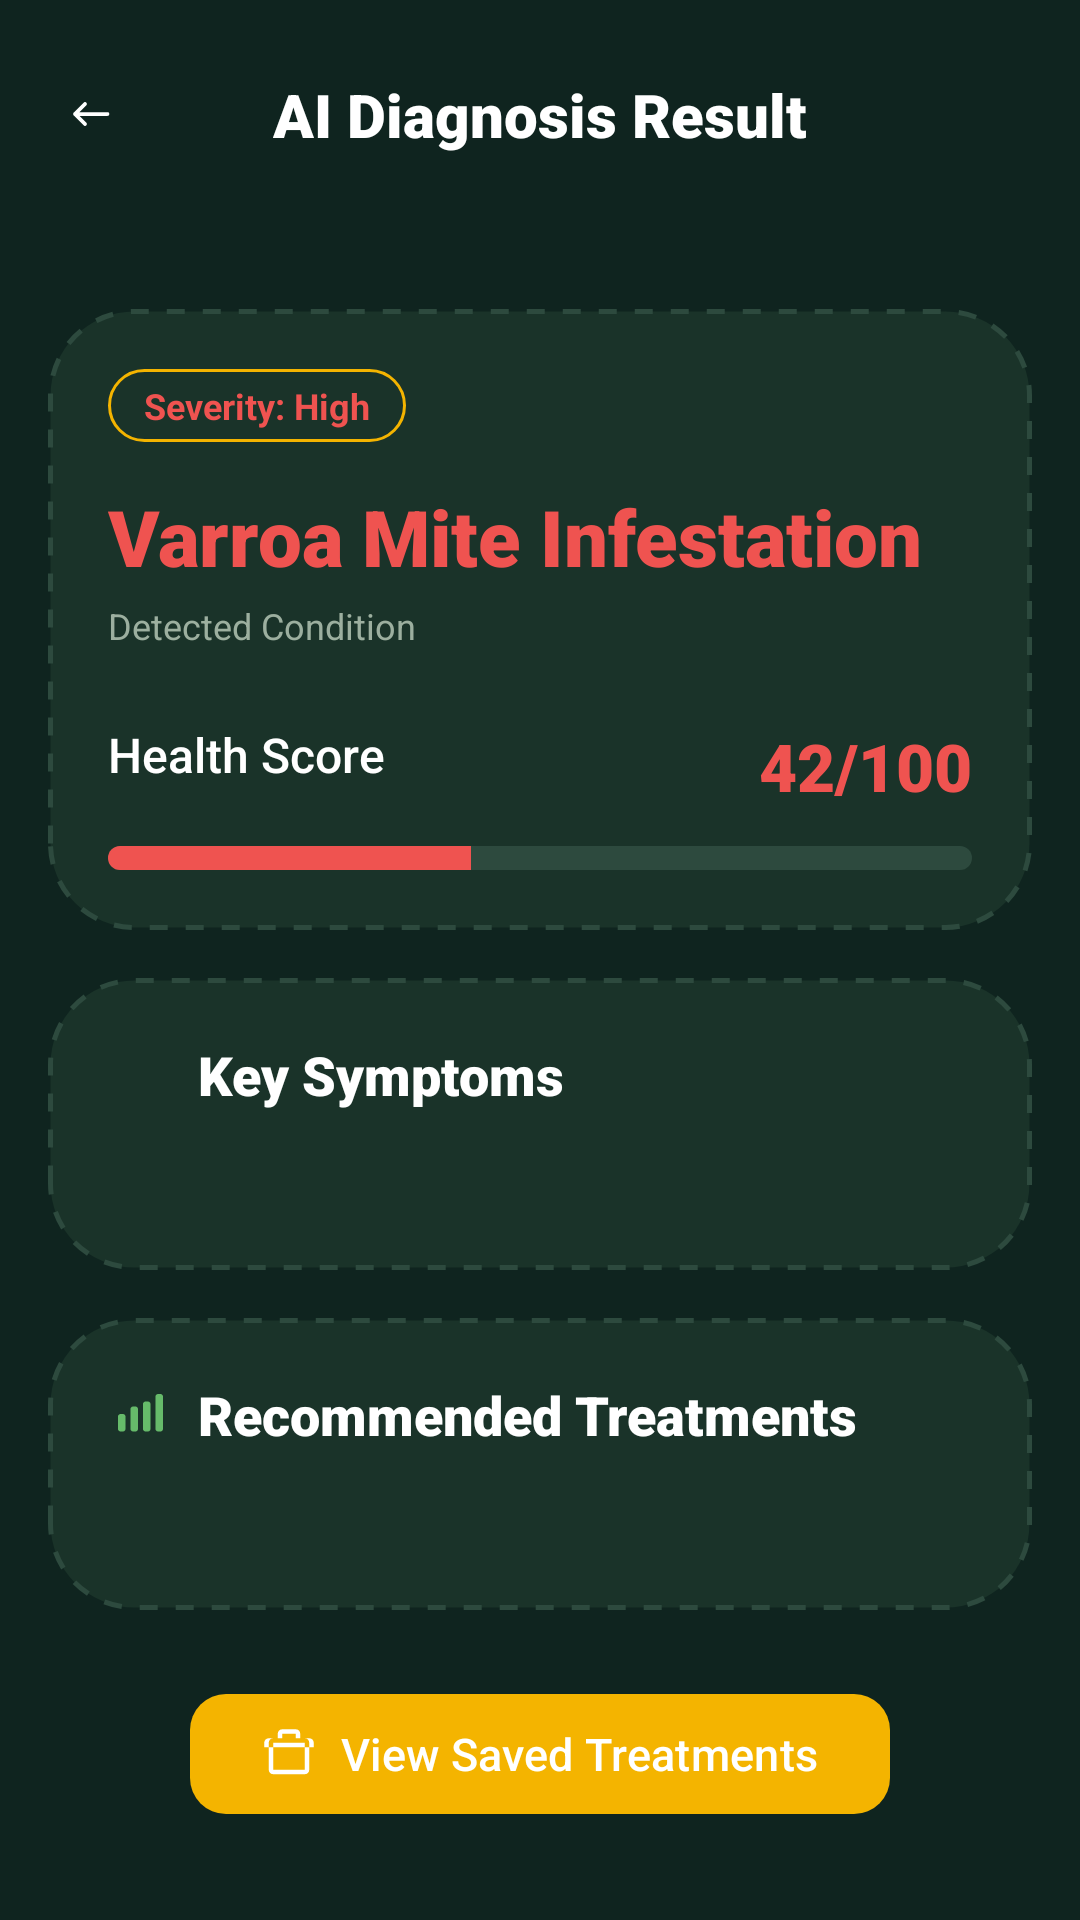

Named icons in this screenshot (1080w x 1920h) and their bounding boxes, (x1, y1, x2, y2):
activity: (118, 1394, 163, 1432)
back: (73, 102, 110, 126)
